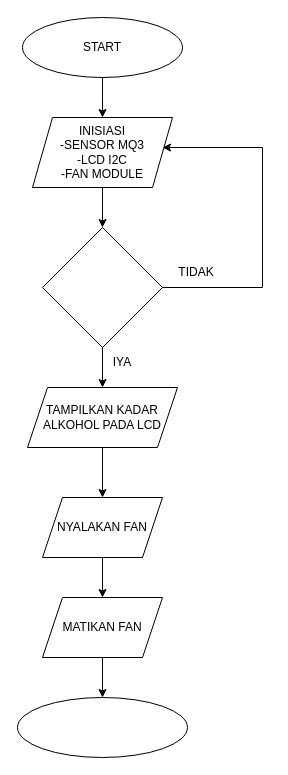
Some shapes in this 288 by 775 pixel diagram are drawn without their labels. Each missing label, with the centre of its shape:
"END" goes at point (102, 727).
"MENDETEKSI ALKOHOL" goes at point (102, 287).
